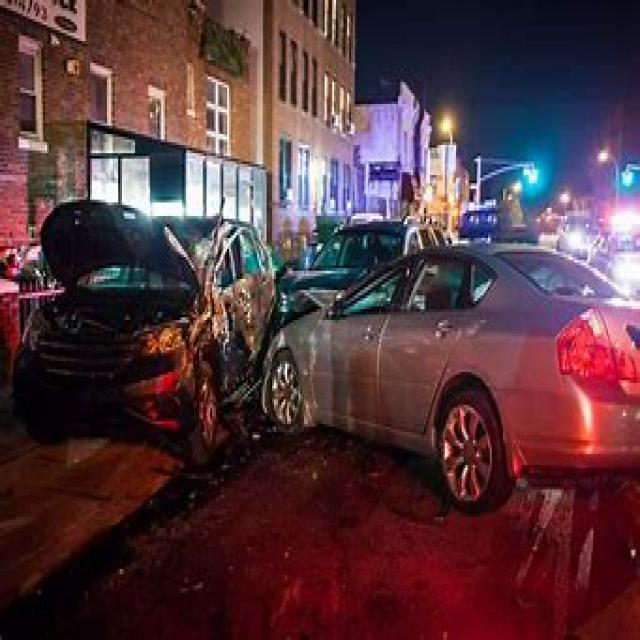Accident: (73, 126, 446, 477)
